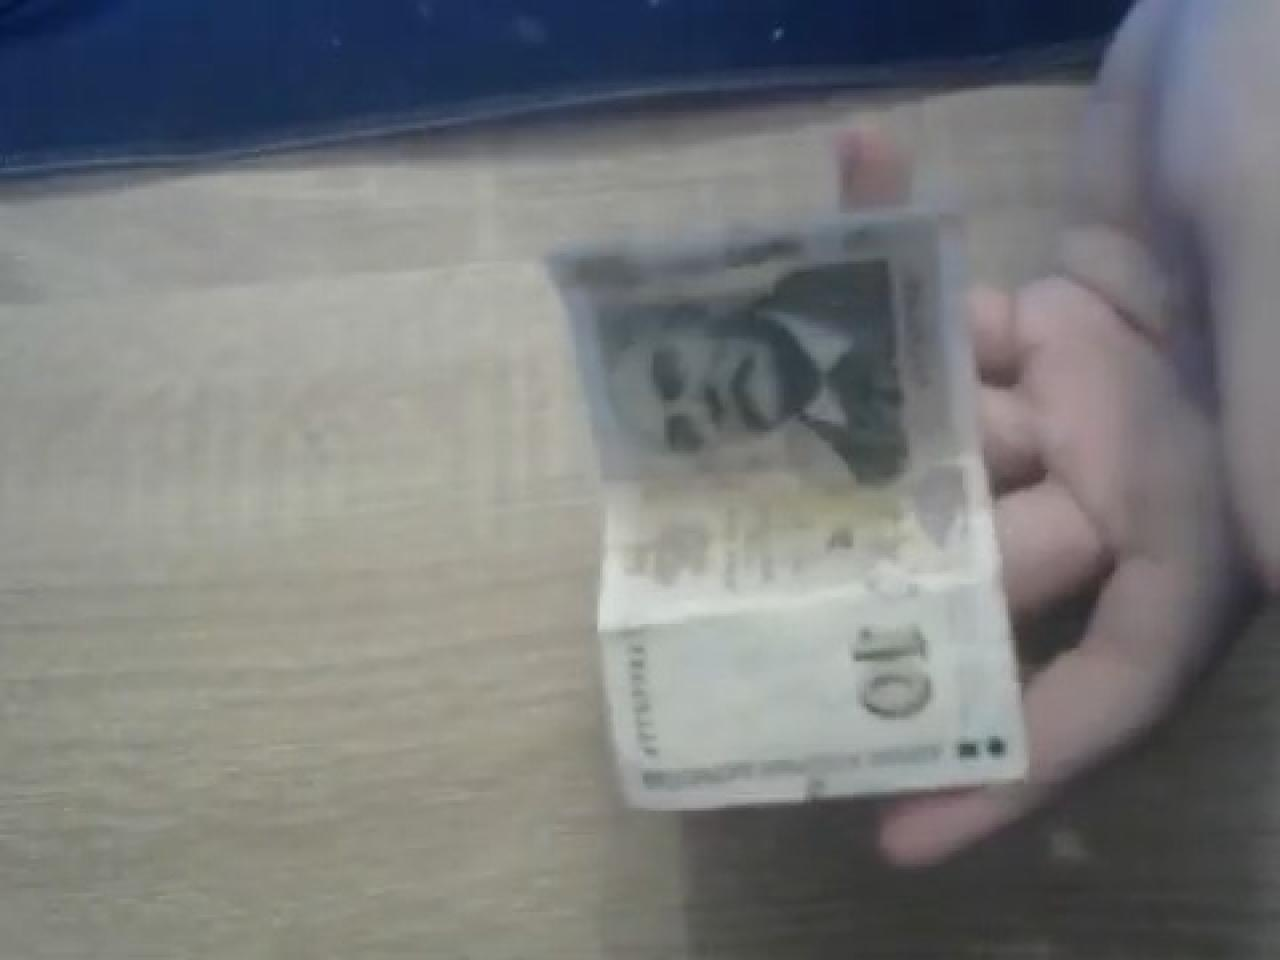10leva: (544, 211, 1032, 819)
